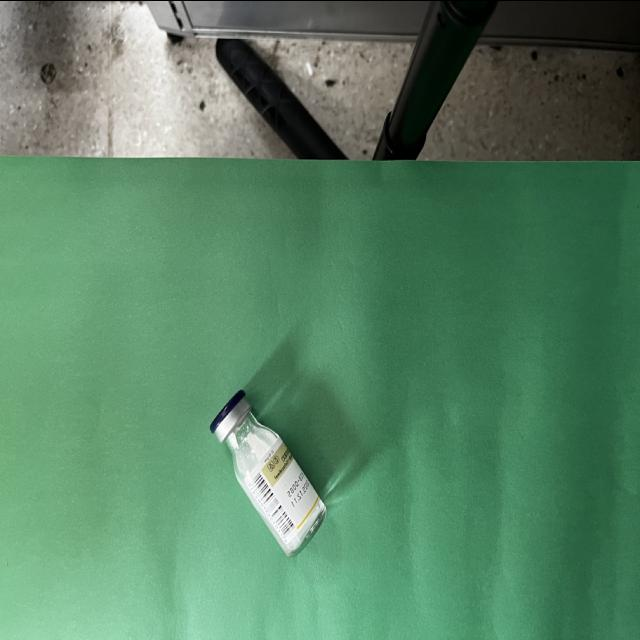Vials: (210, 389, 326, 554)
